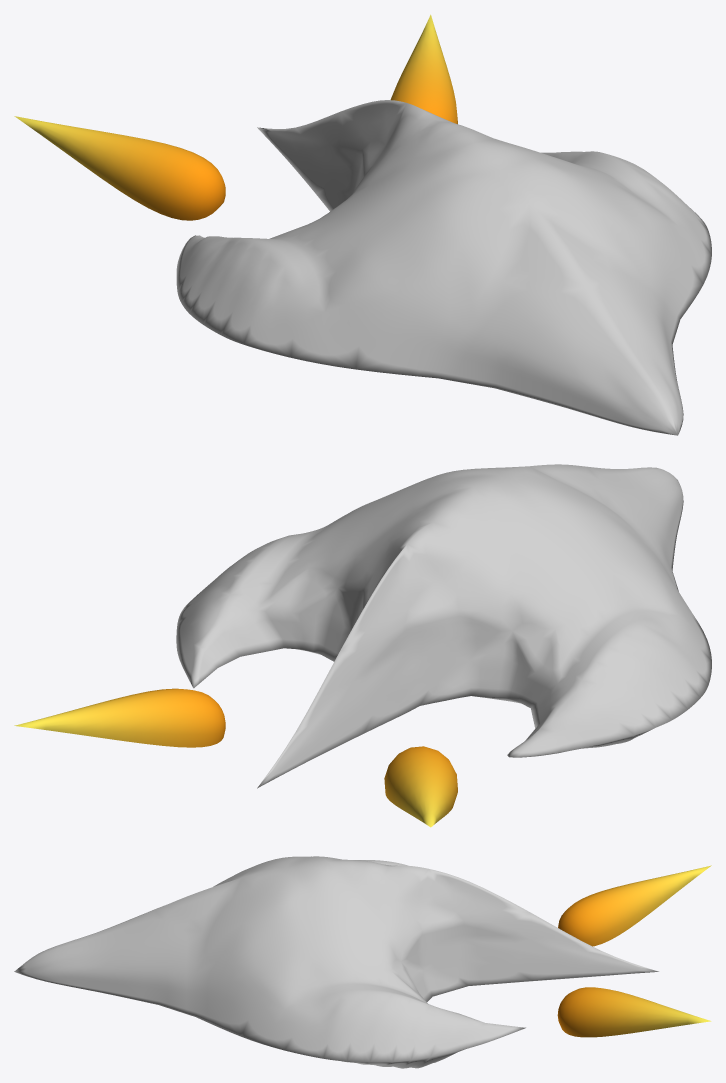
File: paku2.fbx
3 renders of one model, top to bottom at view 1: azimuth 30°, elevation 25°; view 2: azimuth 150°, elevation 25°; view 3: azimuth 270°, elevation 25°, orthographic. The views are drawn at different scales.
Parts seen in each view (by area): view 1: Cube, Sphere; view 2: Cube, Sphere; view 3: Cube, Sphere.
Part boxes in pixels (x1,y1,x2,y2): Cube: (176,100,711,435); Sphere: (14,14,457,220); Cube: (176,464,711,788); Sphere: (14,688,457,827); Cube: (14,856,658,1068); Sphere: (557,865,711,1037).
Size of the model in its own units: 3 by 1.01 by 4.89.
